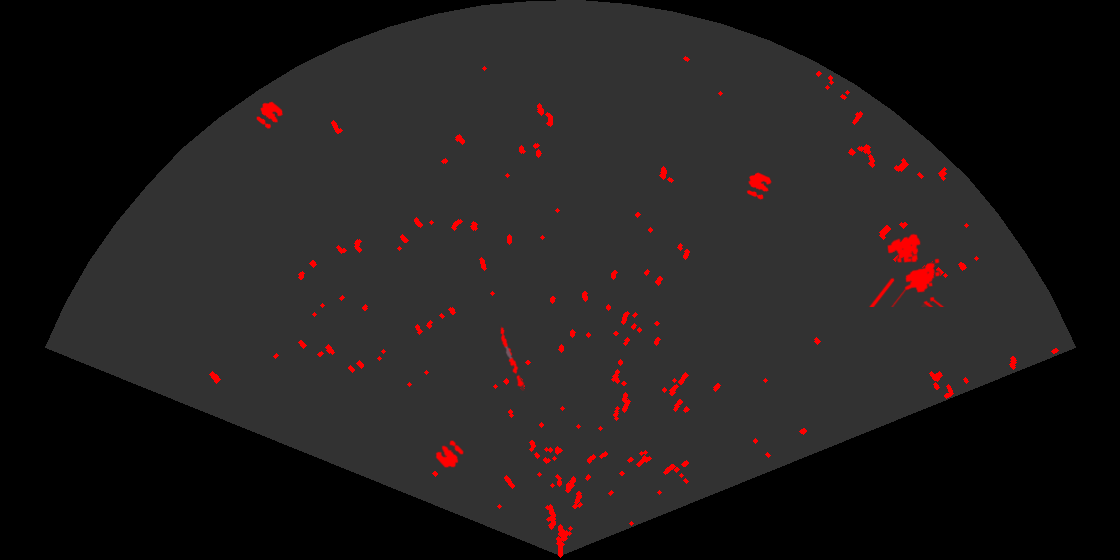ball: (434, 439, 465, 469), (255, 100, 285, 130), (745, 171, 774, 201)
cage: (867, 232, 946, 307)
chain: (499, 324, 526, 391)
